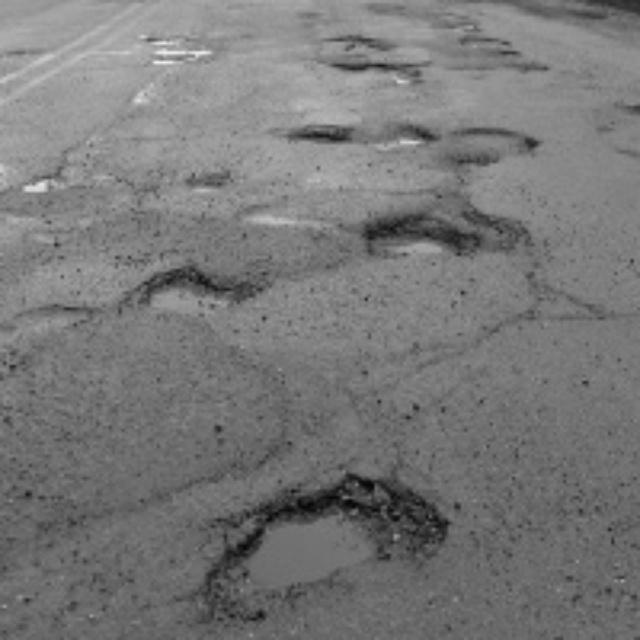Pothole: (227, 472, 439, 606), (341, 208, 478, 278), (128, 259, 251, 318), (466, 109, 542, 168), (297, 108, 357, 154), (346, 50, 426, 84), (150, 31, 220, 65), (389, 110, 429, 156), (460, 27, 509, 56), (188, 160, 225, 197), (567, 4, 607, 27)
